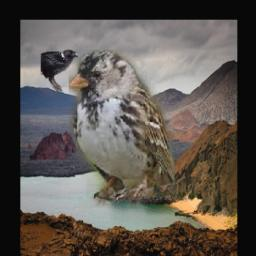Crow: (41, 50, 78, 94)
Sparrow: (70, 51, 175, 209)
